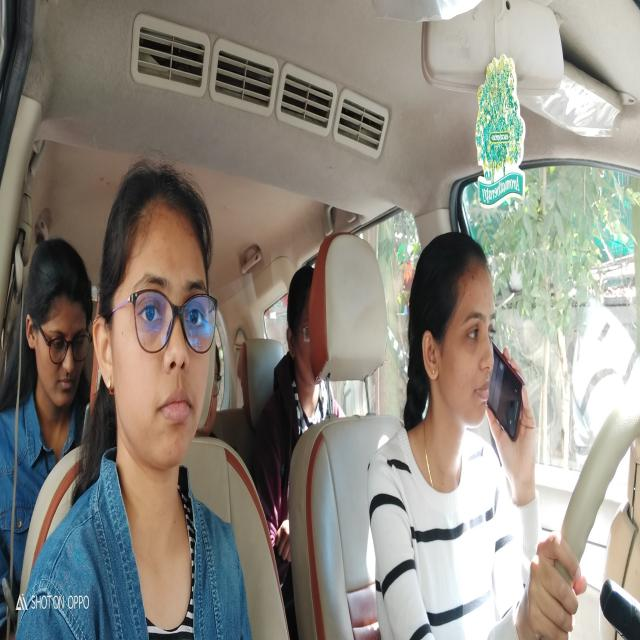mobile: (492, 337, 530, 450)
person: (91, 153, 219, 474), (404, 227, 497, 428), (24, 228, 91, 410), (286, 262, 322, 393), (213, 338, 226, 441)
